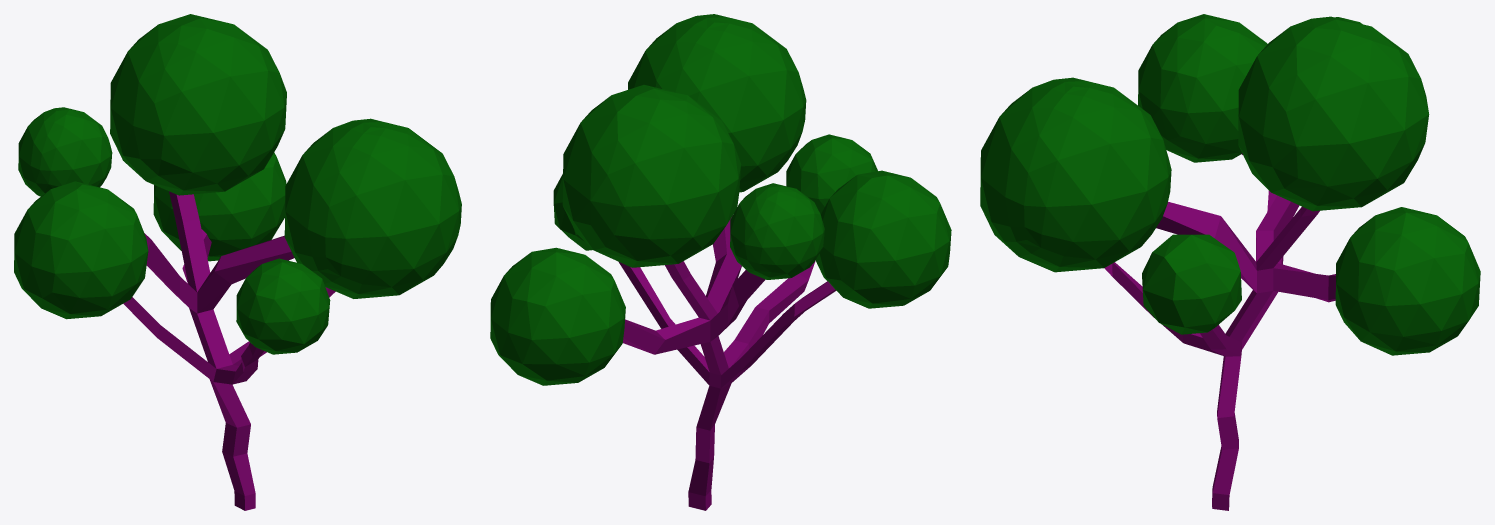
The model's file is LargeTree.fbx.
3 renders of one model, left to right at view 1: azimuth 30°, elevation 25°; view 2: azimuth 150°, elevation 25°; view 3: azimuth 270°, elevation 25°, orthographic. The views are drawn at different scales.
Parts seen in each view (by area): view 1: Sphere_1, Sphere, Sphere_4, Cube, Sphere_2, Sphere_5, Sphere_6; view 2: Sphere_1, Sphere, Cube, Sphere_5, Sphere_4, Sphere_6, Sphere_2, Sphere_3; view 3: Sphere, Sphere_1, Sphere_5, Cube, Sphere_4, Sphere_3.
Part boxes in pixels (x1,y1,x2,y2): Sphere_1: (110, 14, 286, 195); Sphere: (284, 118, 461, 298); Sphere_4: (14, 181, 148, 319); Cube: (123, 191, 335, 510); Sphere_2: (236, 258, 330, 354); Sphere_5: (153, 152, 286, 261); Sphere_6: (18, 107, 112, 196); Sphere_1: (562, 85, 741, 267); Sphere: (628, 14, 806, 192); Cube: (618, 217, 836, 510); Sphere_5: (490, 247, 625, 385); Sphere_4: (816, 170, 951, 308); Sphere_6: (730, 183, 824, 279); Sphere_2: (786, 134, 877, 213); Sphere_3: (553, 174, 592, 250); Sphere: (980, 77, 1171, 272); Sphere_1: (1238, 16, 1429, 211); Sphere_5: (1335, 207, 1480, 355); Cube: (1104, 153, 1335, 510); Sphere_4: (1138, 14, 1267, 162); Sphere_3: (1142, 234, 1241, 334).
Size of the model in its own units: 5509 by 6052 by 5711.
